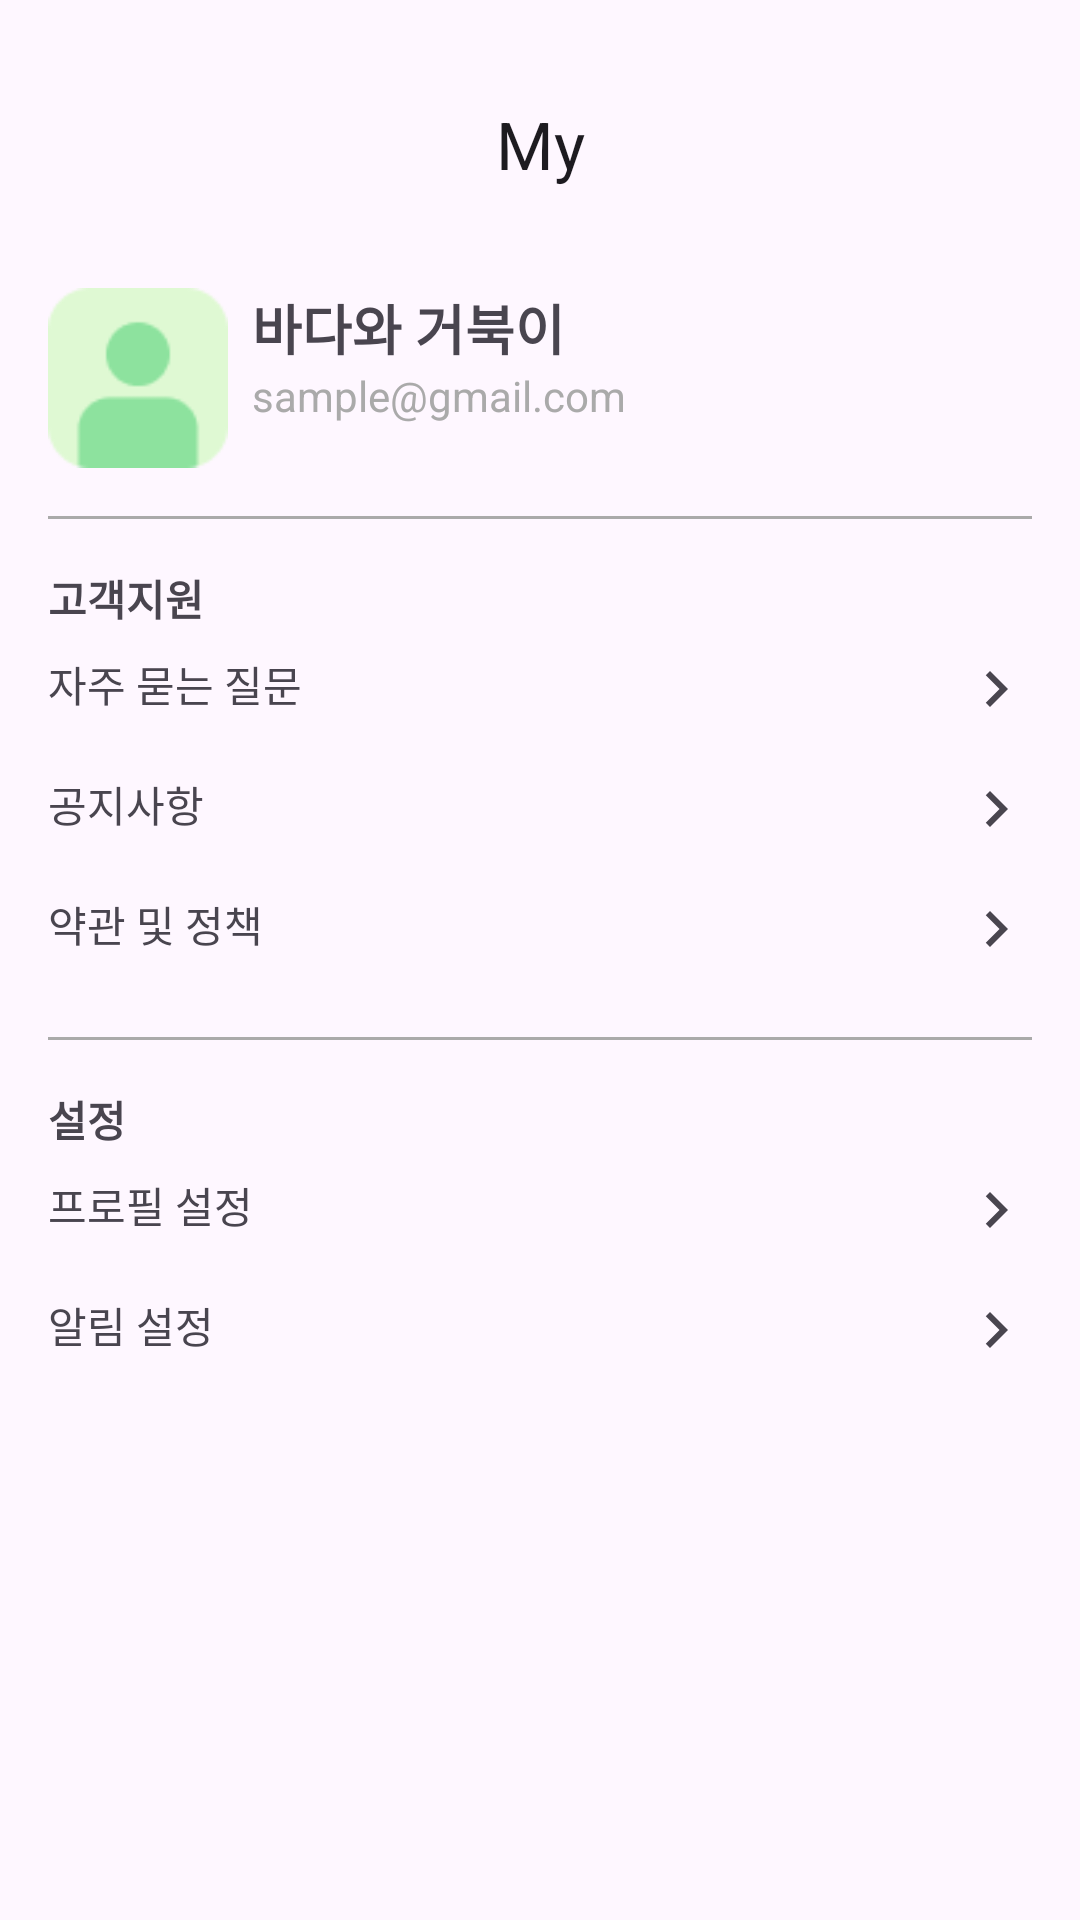

Point at icon controls on the screen. Image size 1080 x 1920, points as (x=x, y=y).
userdefault: (x=138, y=378)
